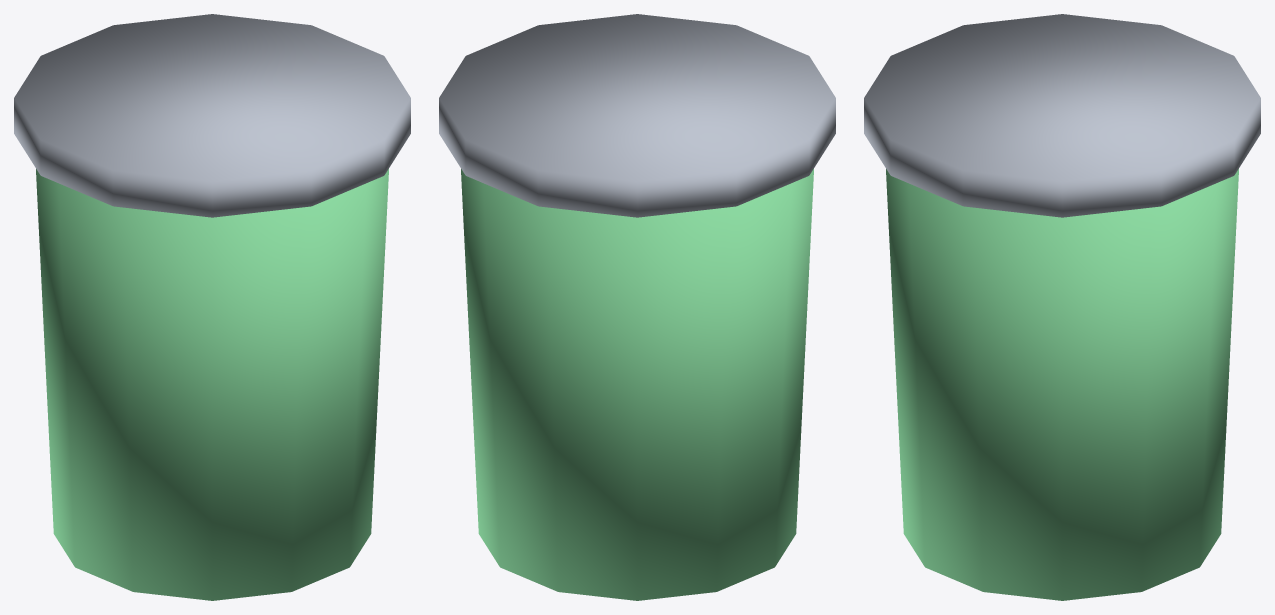
Rendered from Prop_Bin.fbx.
3 renders of one model, left to right at view 1: azimuth 30°, elevation 25°; view 2: azimuth 150°, elevation 25°; view 3: azimuth 270°, elevation 25°, orthographic.
Visible parts, largest first — view 1: Prop_Bin; view 2: Prop_Bin; view 3: Prop_Bin.
Boxes of the visible parts, left/top/right/bottom form: Prop_Bin: left=14, top=14, right=410, bottom=600; Prop_Bin: left=439, top=14, right=835, bottom=600; Prop_Bin: left=864, top=14, right=1260, bottom=600.
Size of the model in its own units: 0.8 by 0.97 by 0.8.
